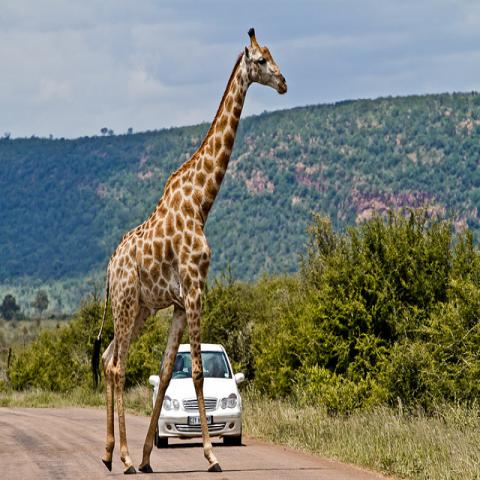car: (148, 342, 244, 449)
